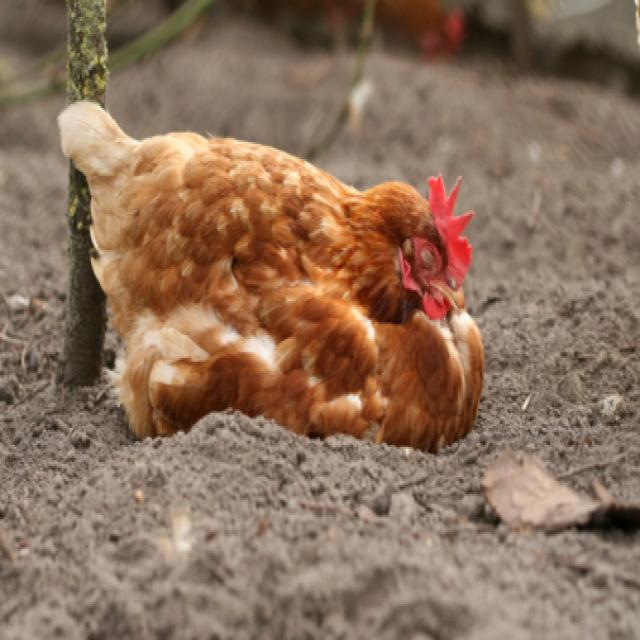sleeping chickens: (53, 97, 492, 460)
